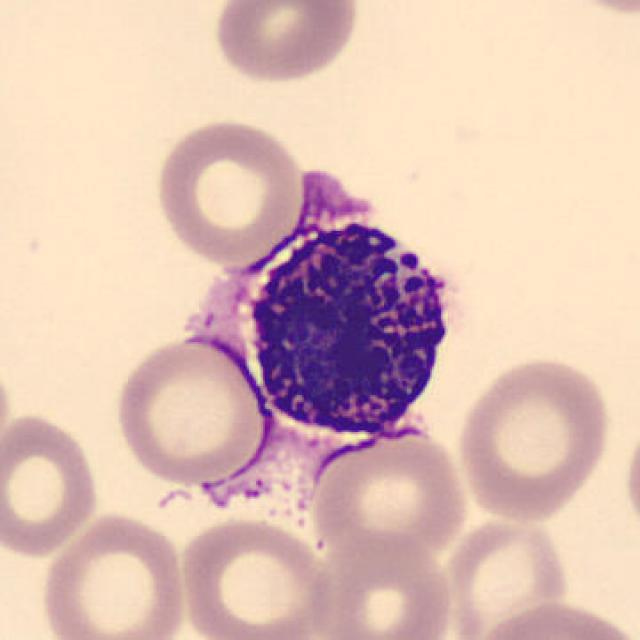Basophil: (167, 154, 475, 453)
RBC: (452, 352, 615, 526), (307, 421, 473, 568), (110, 333, 267, 487), (151, 113, 308, 266), (37, 508, 192, 640), (174, 515, 336, 640), (436, 513, 572, 640), (304, 529, 457, 640), (0, 409, 103, 561), (208, 0, 362, 86), (467, 597, 636, 640), (620, 406, 640, 548), (538, 0, 640, 19), (0, 351, 14, 481)
